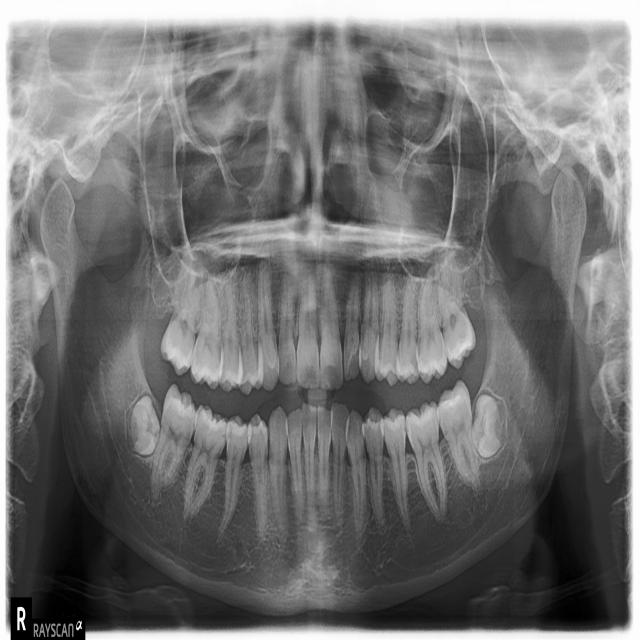mandibula: (41, 163, 588, 613)
